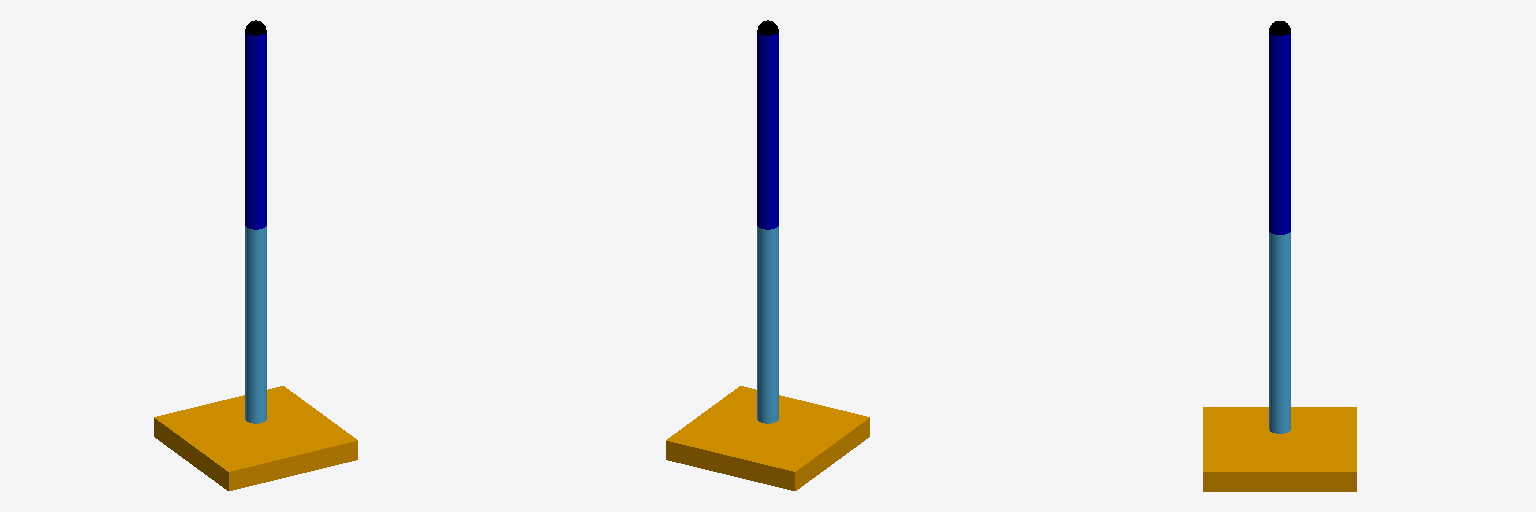
robot.urdf — 2R_robot:
<robot name="2R_robot">
    <!-- The material part is not 
required.. its just for better
visualization.-->
    <material name="blue">
        <color rgba="0 0 0.8 1"/>
    </material>
    <material name="black">
        <color rgba="0 0 0 1"/>
    </material>
    <!--
* They are free to pick any dimensions
  but the origin of joint and links 
  should have propper values accordingly.
  Let
  l1, be the length of the first link
  l2, be the length of the second link
  l x b x h be the base dimentions
  the the values should be filled below as 
  commented
* I have used cylinder here for the link shape
  if they have use box that is also fine but then
  l1 , l2 will be the longest side, i suppose
* dc - dont care
-->
    <link name="base_link">
        <inertial>
            <origin xyz="8e-05 0.02446 -0.00146" rpy="0 0 0"/>
            <mass value="1000000"/>
            <inertia ixx="0.00196" ixy="0" ixz="0" iyy="0.00133" iyz="-2e-05" izz="0.0023"/>
        </inertial>
        <visual>
            <geometry>
                <box size="0.7 0.7 0.10"/>
                <!-- let base dimensions be l x b x h-->
            </geometry>
        </visual>
        <collision>
            <origin xyz="0 0.00015 -0.00044" rpy="0 0 0"/>
            <geometry>
                <box size="0.7 0.7 0.10"/>
            </geometry>
        </collision>
    </link>
    <link name="link1">
        <visual>
            <geometry>
                <cylinder length="1" radius="0.05"/>
                <!--length = l1-->
            </geometry>
            <origin rpy="0 0 0" xyz="0 0 0.55"/>
            <!-- z = (l1 / 2) -->
            <material name="white"/>
        </visual>
    </link>
    <joint name="joint1" type="revolute">
        <parent link="base_link"/>
        <child link="link1"/>
        <origin xyz="0 0 0.05"/>
        <!--z = h/2-->
        <limit effort="200" lower="-3.14" upper="3.14" velocity="1.0"/>
        <!-- dc -->
        <axis xyz= "1 0 0"/>
        <!-- can be either "1 0 0" or "0 1 0" and the same should be in joint 2 -->
    </joint>
    <link name="link2">
        <visual>
            <geometry>
                <cylinder length="1" radius="0.05"/>
                <!--length = l2-->
            </geometry>
            <origin rpy="0 0 0" xyz="0 0 0.5"/>
            <!-- z = (l2 / 2) -->
            <material name="blue"/>
        </visual>
    </link>
    <joint name="joint2" type="revolute">
        <parent link="link1"/>
        <child link="link2"/>
        <origin xyz="0 0 1.05"/>
        <!--z = l1 + h/2-->
        <limit effort="200" lower="-3.14" upper="3.14" velocity="1.0"/>
        <!-- dc -->
        <axis xyz= "1 0 0"/>
        <!-- can be either "1 0 0" or "0 1 0" and the same should be in joint 1 -->
    </joint>
    <link name="link3">
        <inertial>
            <origin xyz="8e-05 0.02446 -0.00146" rpy="0 0 0"/>
            <mass value="0.001"/>
            <inertia ixx="0.00196" ixy="0" ixz="0" iyy="0.00133" iyz="-2e-05" izz="0.0023"/>
        </inertial>
        <visual>
            <geometry>
                <sphere radius="0.05"/>
                <!--length = l2-->
            </geometry>
            <origin rpy="0 0 0" xyz="0 0 -0.05"/>
            <!-- z = (l2 / 2) -->
            <material name="black"/>
        </visual>
    </link>
    <joint name="joint3" type="fixed">
        <parent link="link2"/>
        <child link="link3"/>
        <origin xyz="0 0 1.05"/>
        <!--z = l1 + h/2-->
        <axis xyz= "0 0 0"/>
        <!-- can be either "1 0 0" or "0 1 0" and the same should be in joint 1 -->
    </joint>
</robot>

--- Facts derived from the render (not from the file) ---
The picture shows the robot from 3 angles, left to right: view 1: azimuth 30°, elevation 25°; view 2: azimuth 150°, elevation 25°; view 3: azimuth 270°, elevation 25°; orthographic projection.
Robot: 2R_robot — 4 links, 3 joints (2 revolute, 1 fixed); root link base_link; default pose: all joints at 0.
Visible links, largest first — view 1: base_link, link1, link2; view 2: base_link, link1, link2; view 3: base_link, link2, link1.
Boxes of the visible links, box(x1,y1,x2,y2) form: base_link: box(154, 386, 357, 490); link1: box(245, 226, 266, 423); link2: box(245, 32, 266, 229); base_link: box(666, 386, 869, 490); link1: box(757, 226, 778, 423); link2: box(757, 32, 778, 229); base_link: box(1203, 407, 1356, 491); link2: box(1269, 33, 1290, 234); link1: box(1269, 232, 1290, 433).
Bounding box of the posed robot: 0.7 × 0.7 × 2.2 m (x, y, z).
Geometry: primitives only (box / cylinder / sphere), no mesh files.